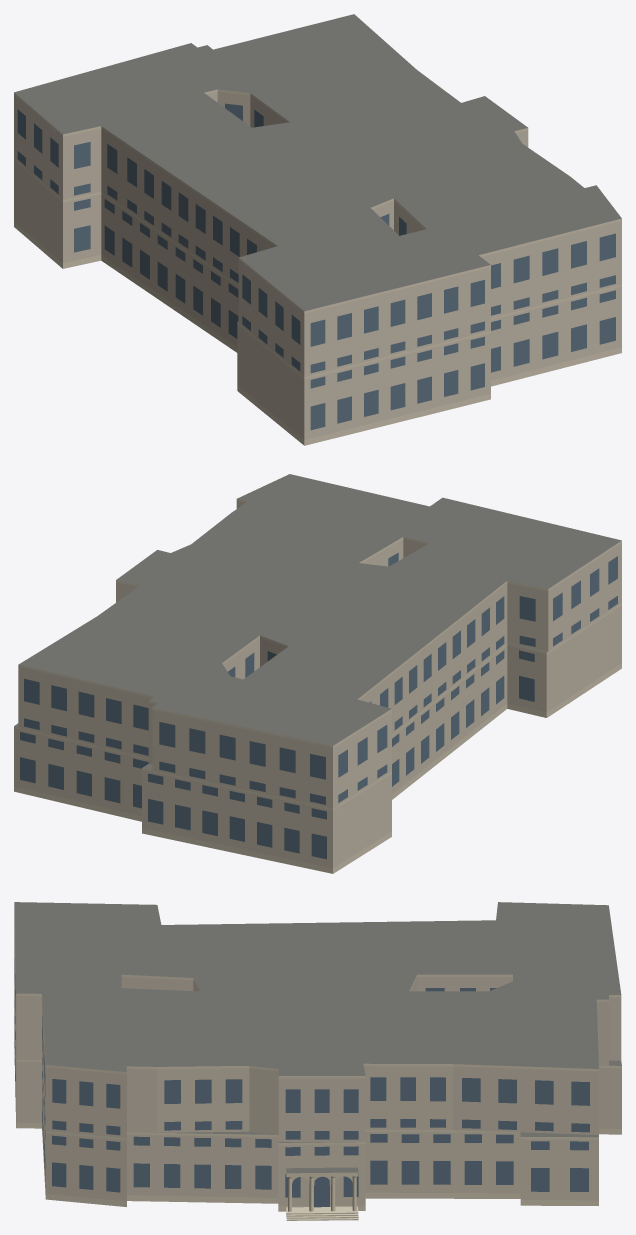
File: dc-au-mary-graydon-student-center.glb
3 views of the same model, one above another, from view 1: azimuth 30°, elevation 25°; view 2: azimuth 150°, elevation 25°; view 3: azimuth 270°, elevation 25° (orthographic). The views are drawn at different scales.
Visible parts, largest first — view 1: Mary Graydon Student Center; view 2: Mary Graydon Student Center; view 3: Mary Graydon Student Center.
Boxes of the visible parts, bbox=[...] form: Mary Graydon Student Center: bbox=[14, 14, 621, 445]; Mary Graydon Student Center: bbox=[14, 474, 621, 873]; Mary Graydon Student Center: bbox=[14, 902, 621, 1220].
Bounding box in the file's own units: 54.55 × 18.6 × 76.09.
